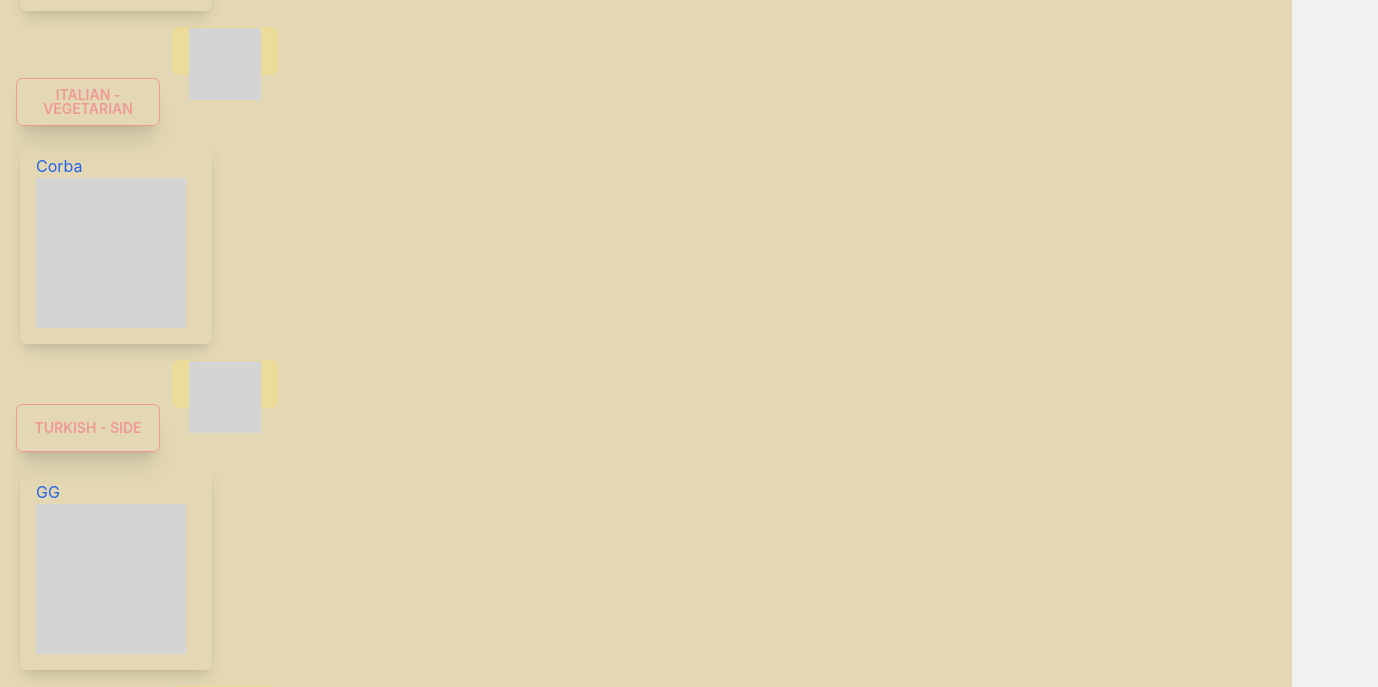
Test case:  › Verifica a funcionalidade do botão de favoritar na rota DoneRecipes
(page scrolled)
Expected: the text "Link copied!" is not shown
Click the button with test id "1-horizontal-share-btn": (225, 384) [172, 360, 278, 408]
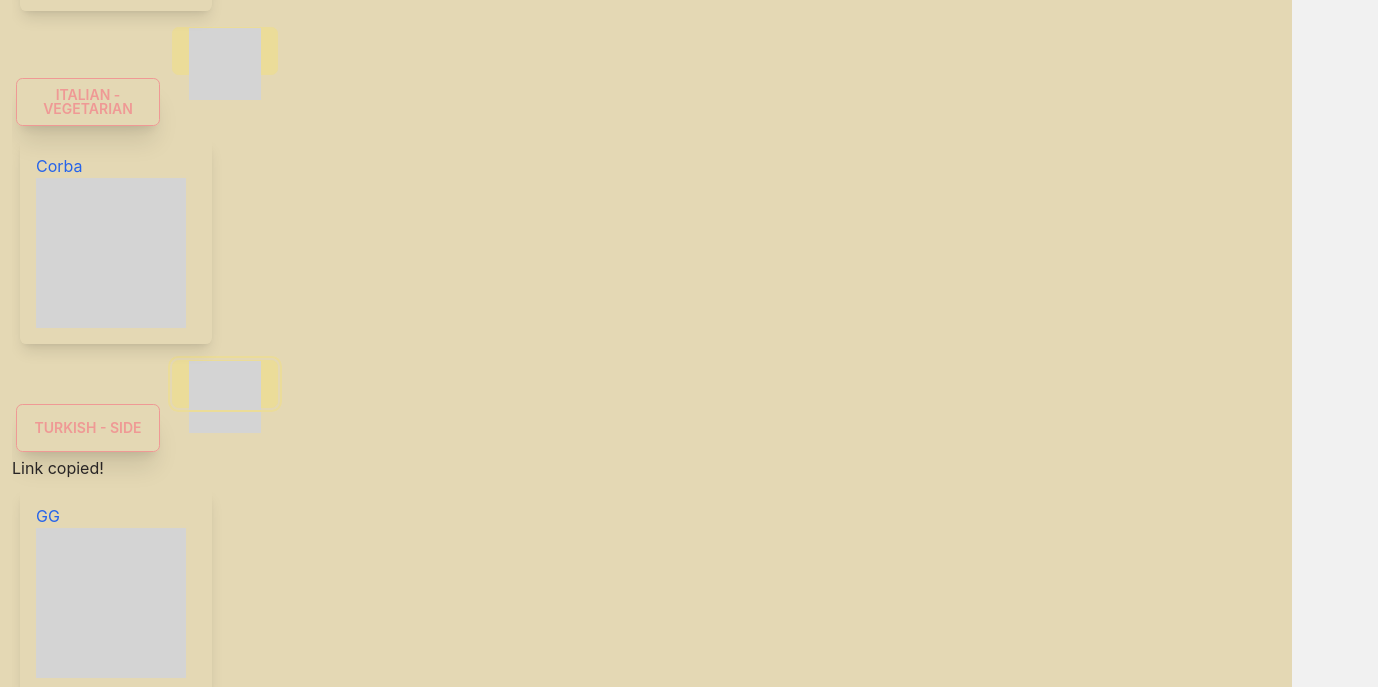
Now the text "Link copied!" is shown, box [12, 458, 104, 478]
